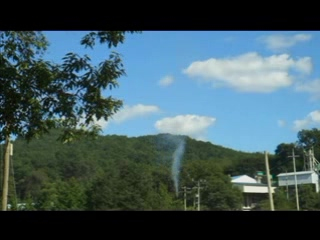smoke: (161, 133, 187, 198)
